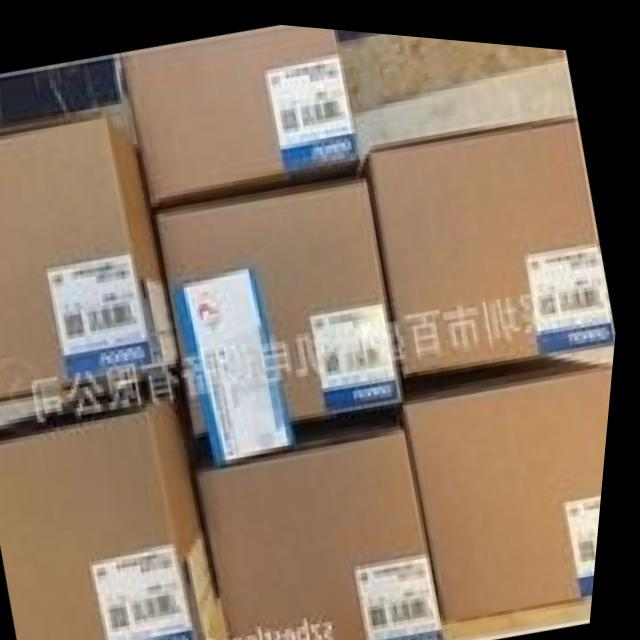box: (365, 106, 620, 365), (158, 168, 408, 429), (201, 406, 456, 640), (0, 376, 226, 640), (406, 344, 619, 609), (0, 114, 187, 402), (120, 20, 362, 199)
